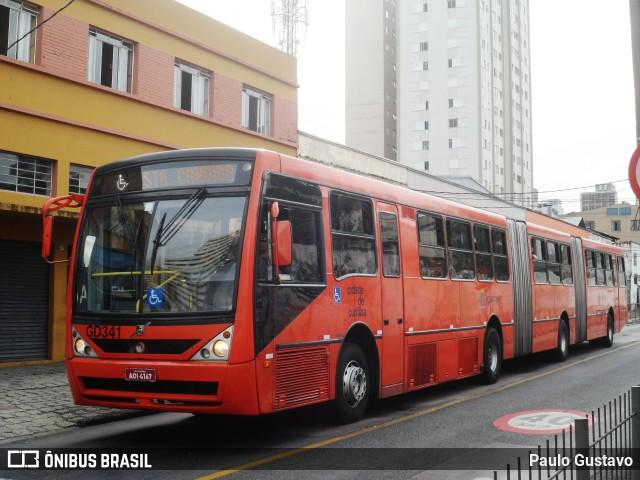STA . CANDIDA: (139, 161, 239, 192)
